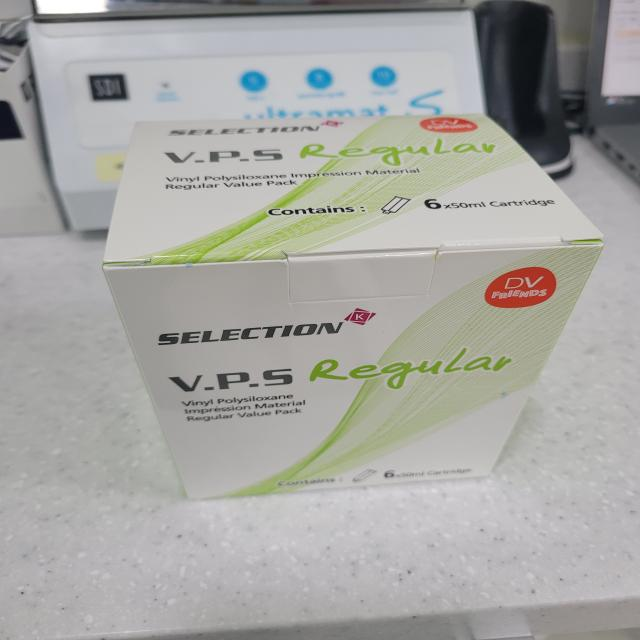impression: (80, 103, 612, 526)
